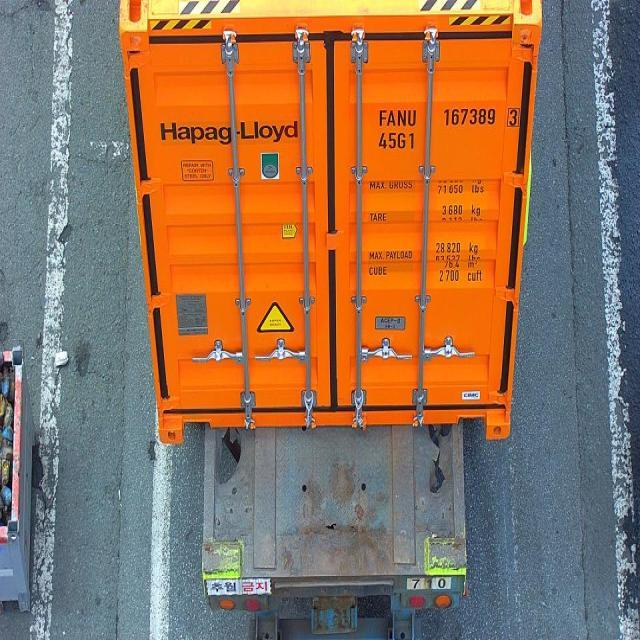ISO: (379, 133, 418, 151)
container_number: (377, 100, 521, 128), (558, 100, 559, 102)
